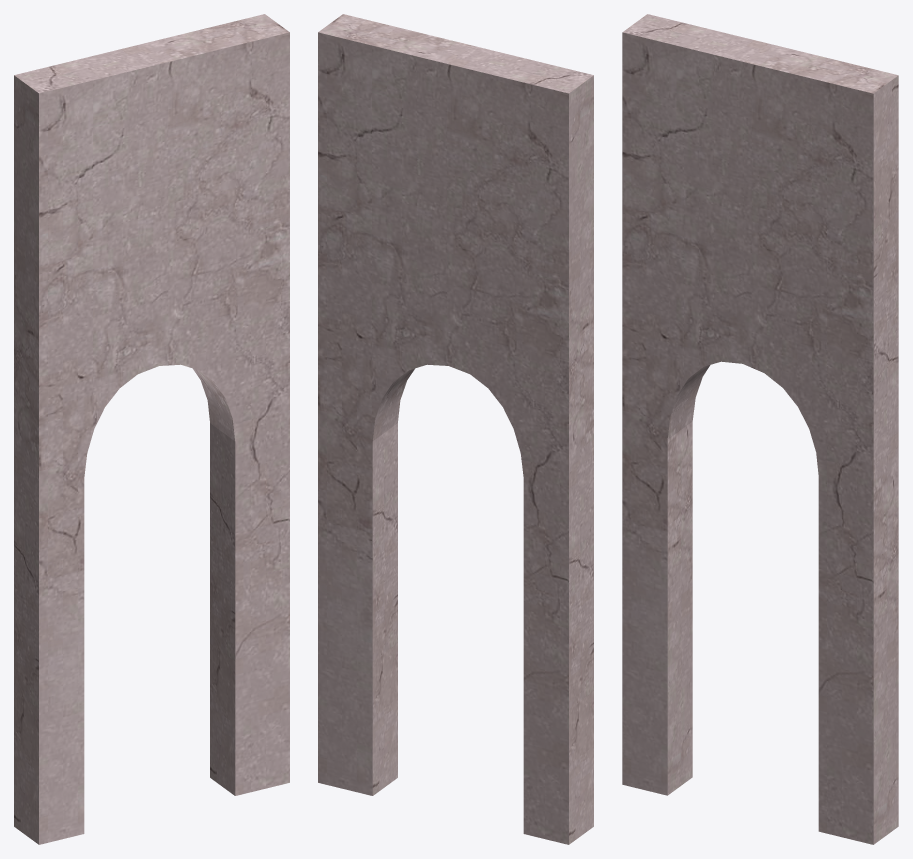
Rendered from marble_tiles_pink_154.fbx.
The picture shows the model from 3 angles, left to right: view 1: azimuth 30°, elevation 25°; view 2: azimuth 150°, elevation 25°; view 3: azimuth 330°, elevation 25°; orthographic projection.
Visible parts, largest first — view 1: marble_tiles_pink_154; view 2: marble_tiles_pink_154; view 3: marble_tiles_pink_154.
Part boxes in pixels (x1=…): marble_tiles_pink_154: x1=14, y1=14, x2=289, y2=844; marble_tiles_pink_154: x1=318, y1=14, x2=593, y2=844; marble_tiles_pink_154: x1=622, y1=14, x2=898, y2=844.
Bounding box in the file's own units: 107 × 306 × 18.5.
